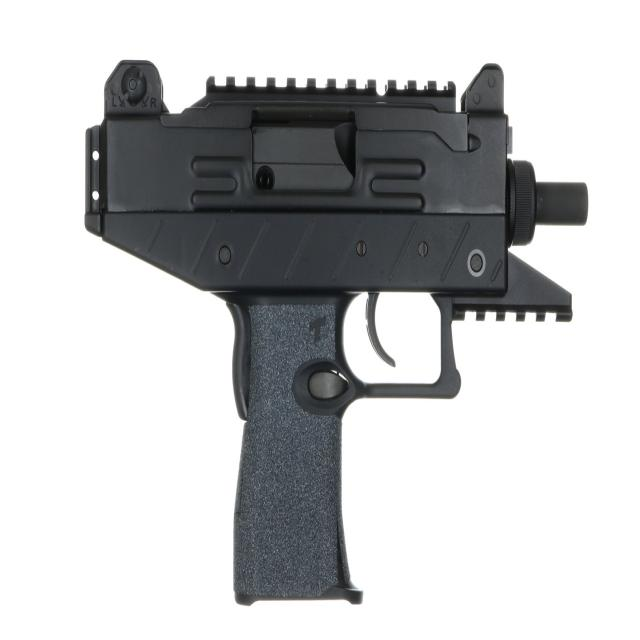SMG: (83, 60, 590, 608)
